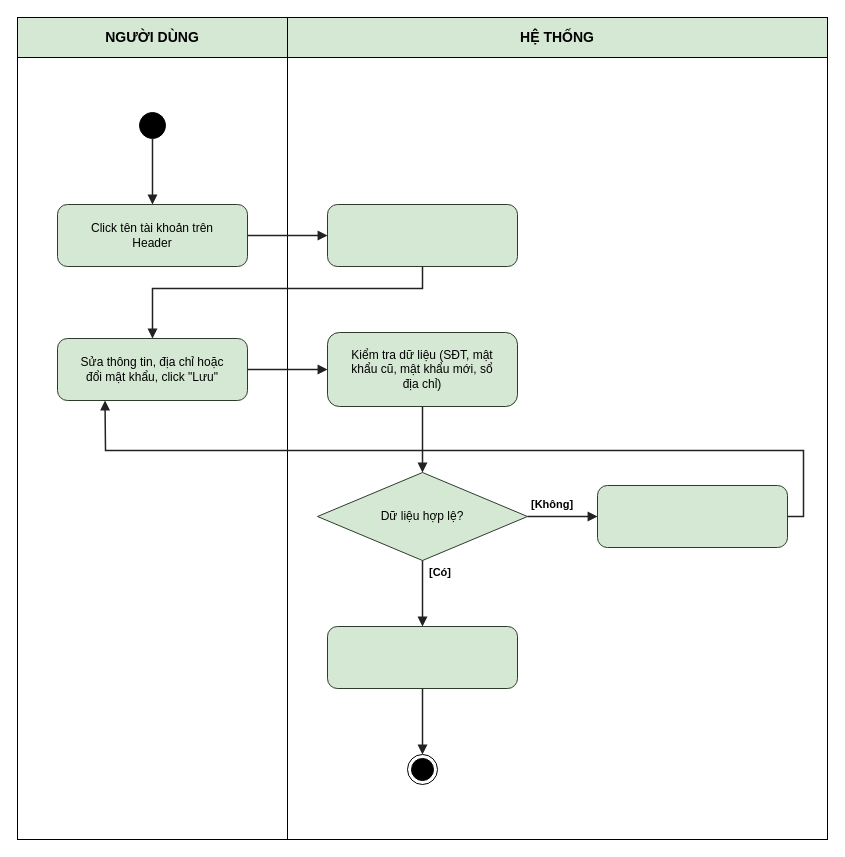
The diagram is 845 pixels wide and 857 high, and some of its shapes have lost their labels. The shapes that lost their labels are listed below. From the top down, each one's centre as x and y in pixels, then its label:
(x=422, y=235): Hiển thị thông tin cá nhân và sổ địa chỉ
(x=692, y=516): Thông báo lỗi tương ứng
(x=422, y=657): Lưu thay đổi vào CSDL, thông báo thành công
